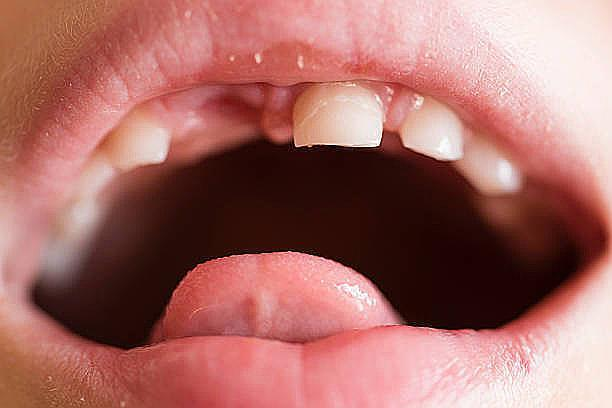Hypodontia: (161, 91, 302, 159)
